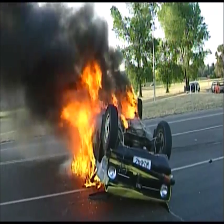fire_h: (58, 60, 105, 177), (120, 84, 141, 118)
fire_l: (83, 175, 102, 189), (118, 113, 130, 129), (109, 90, 118, 106)
